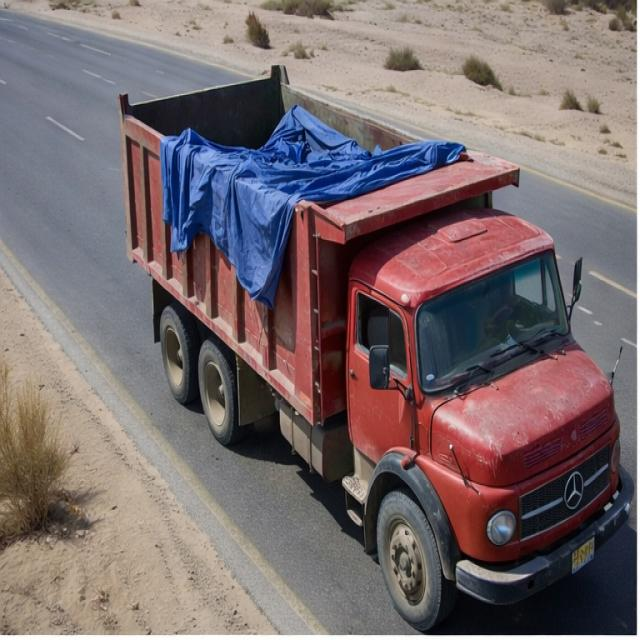Box: (111, 58, 524, 248)
Truck: (94, 30, 640, 628)
